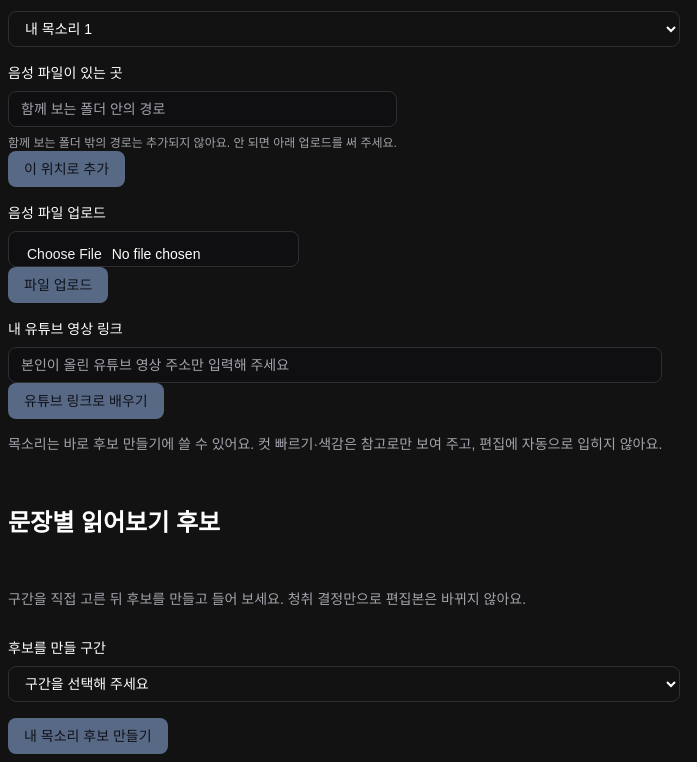
VoiceTtsSettings › keeps the newest A candidate read ready when an older A error arrives late
(page scrolled)
Select "1번 구간 · 첫 문장을 소개합니다" in the dropdown labelled "후보를 만들 구간" at (344, 684), box [8, 666, 680, 702]
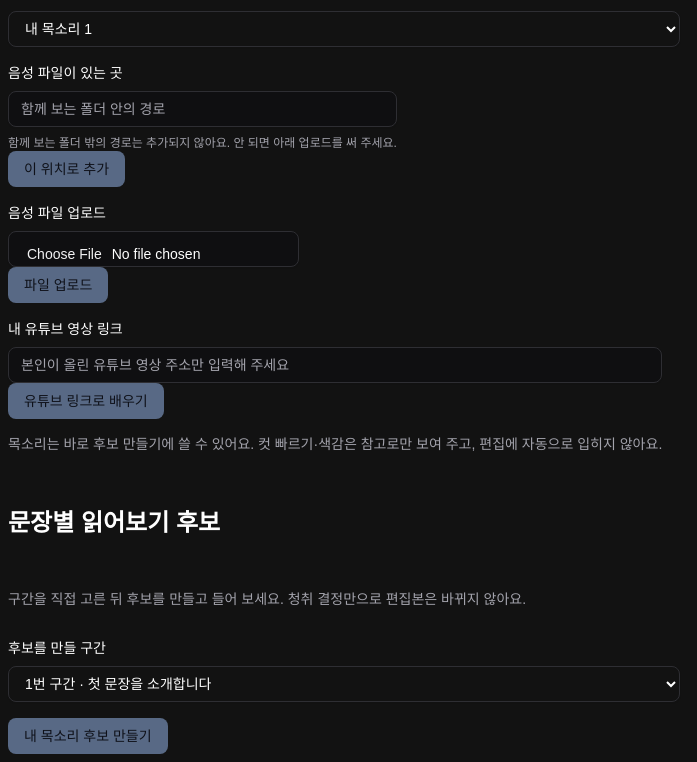
Select "2번 구간 · 두 번째 문장을 이어갑니다" in the dropdown labelled "후보를 만들 구간" at (344, 684), box [8, 666, 680, 702]
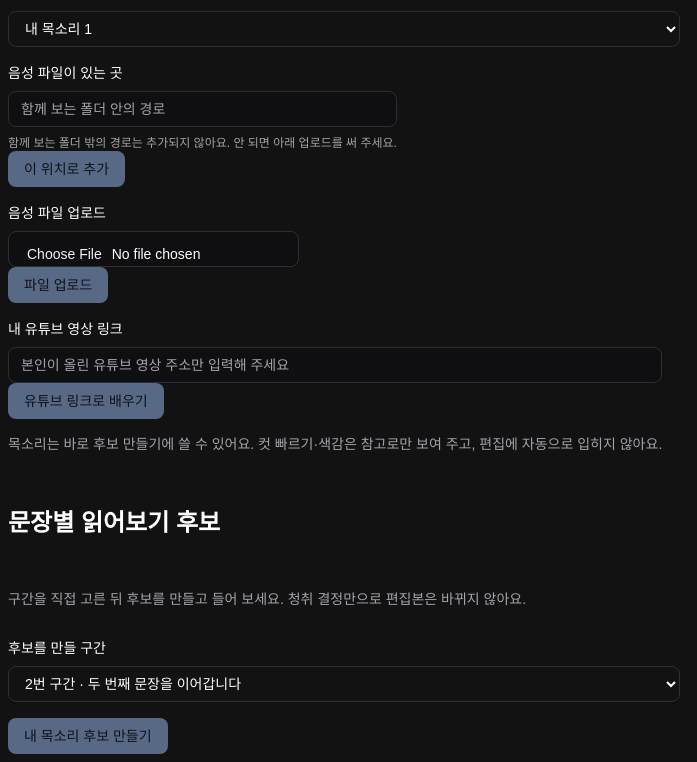
Select "1번 구간 · 첫 문장을 소개합니다" in the dropdown labelled "후보를 만들 구간" at (344, 684), box [8, 666, 680, 702]
(page scrolled)
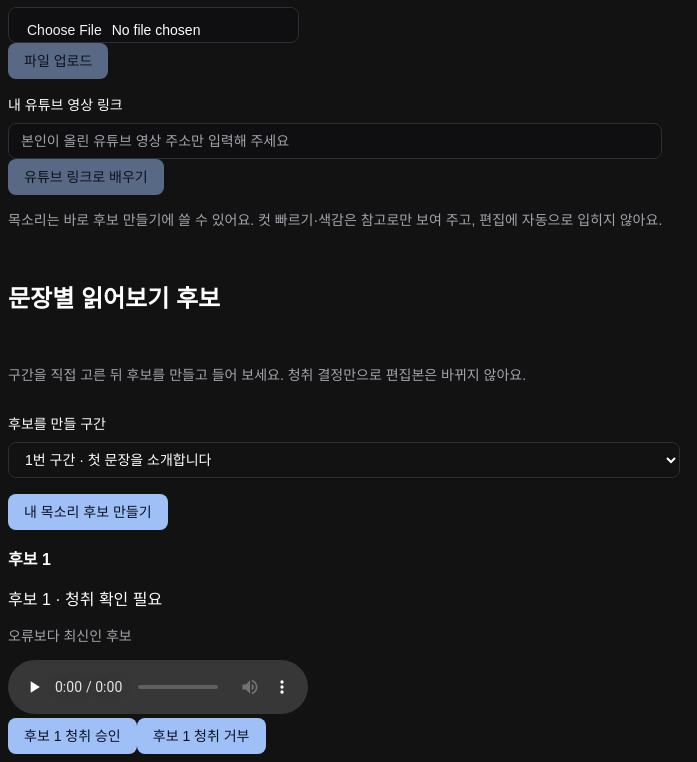
Result: the text "오류보다 최신인 후보" is shown at [8, 628, 132, 644]
